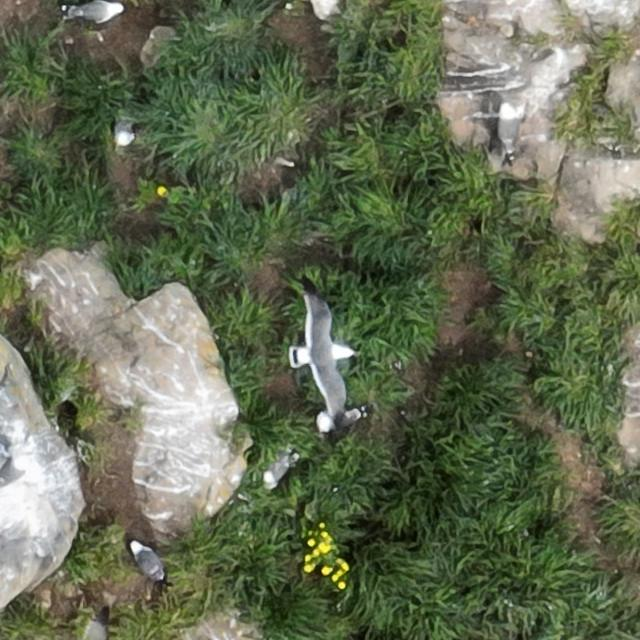F: (295, 286, 355, 421)
umineko: (133, 543, 162, 578), (0, 452, 29, 485), (75, 2, 121, 22), (499, 108, 519, 151), (264, 457, 290, 486), (328, 410, 360, 430), (117, 122, 134, 146)
